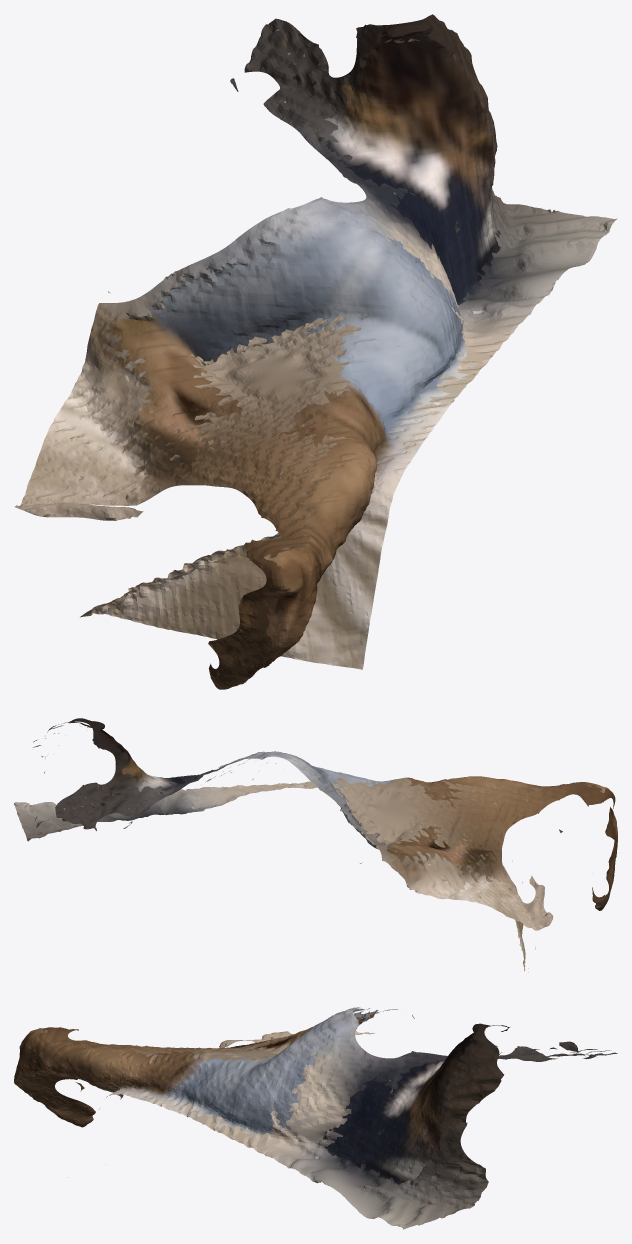
The picture shows the model from 3 angles, top to bottom: view 1: azimuth 30°, elevation 25°; view 2: azimuth 150°, elevation 25°; view 3: azimuth 270°, elevation 25°; orthographic projection. The views are drawn at different scales.
Size of the model in its own units: 1.35 by 0.6844 by 1.41.
Materials: 1 (1 with a texture image).
